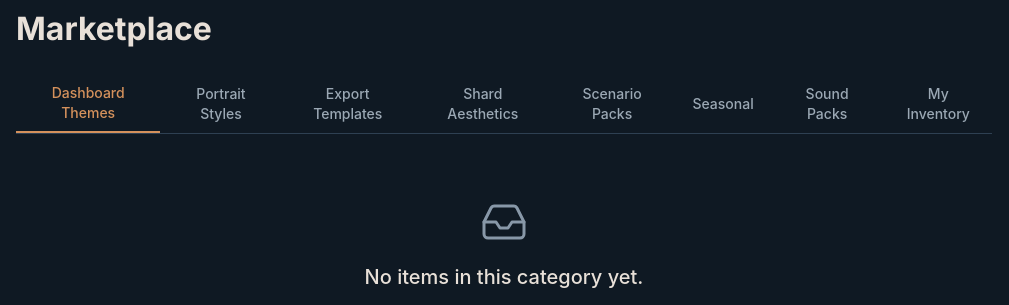
Test: MarketplacePage — an equip and a preview against later loads (R422) › an item’s toggle is enabled again once its equip succeeds, even when a later inventory read supersedes the read after it (R422.1)
The image size is (1009, 305).
Click the tab "My Inventory".
click(938, 104)  # box x1=884 y1=75 x2=992 y2=133
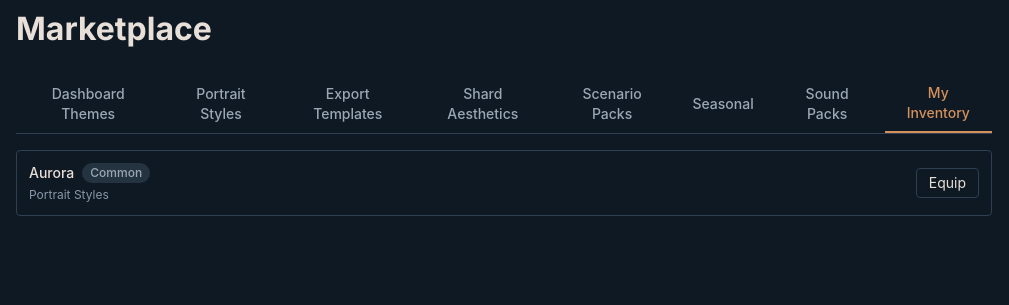
Click the button with test id "marketplace-inventory-equip-toggle".
click(947, 183)  # box x1=916 y1=168 x2=979 y2=198
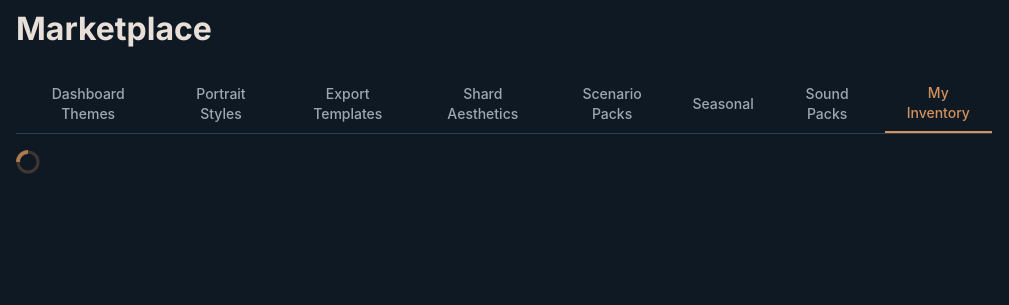
Click the tab "Portrait Styles".
click(221, 104)  # box x1=164 y1=75 x2=278 y2=133
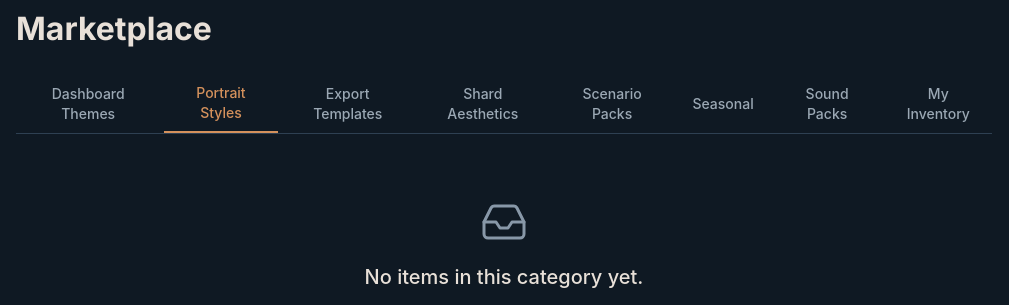
Click the tab "My Inventory".
click(938, 104)  # box x1=884 y1=75 x2=992 y2=133
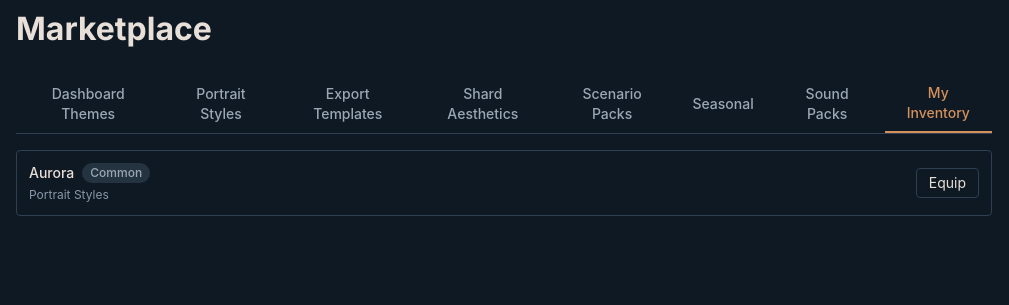
Check: the button with test id "marketplace-inventory-equip-toggle" is enabled, box x1=916 y1=168 x2=979 y2=198
